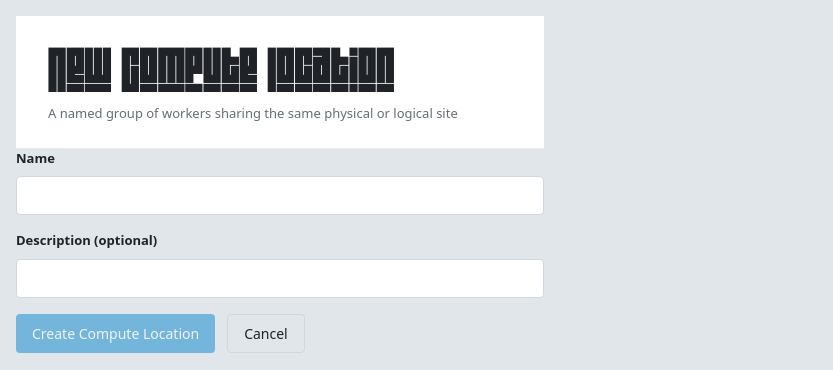
ComputeLocationForm (create) › rejects an invalid name with an error and disables submit
Step 1. Type "on prem" into the field labelled "Name" → (280, 196), box top-left (16, 176), bottom-right (544, 215)
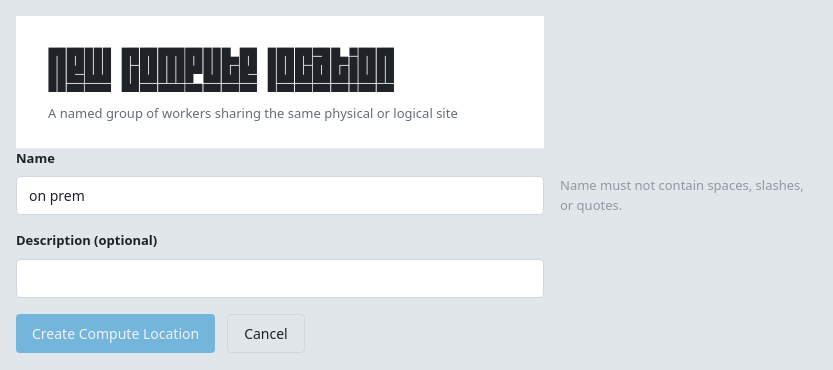
Expected: the button "Create Compute Location" is disabled, top-left (16, 314), bottom-right (215, 352)
Expected: the text "Name must not contain spaces, slashes, or quotes." is shown, top-left (560, 176), bottom-right (816, 215)
